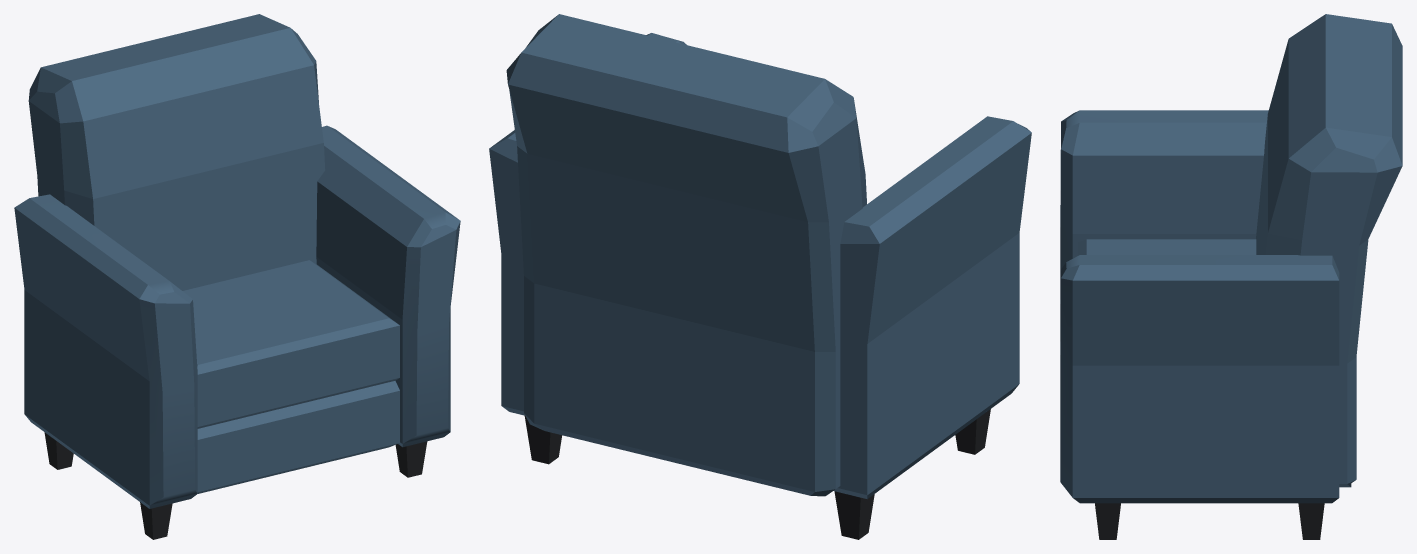
The model's file is Prop_Couch_01.glb.
3 views of the same model, side by side, from view 1: azimuth 30°, elevation 25°; view 2: azimuth 150°, elevation 25°; view 3: azimuth 270°, elevation 25° (orthographic). The views are drawn at different scales.
Visible parts, largest first — view 1: SM_Prop_Couch_01; view 2: SM_Prop_Couch_01; view 3: SM_Prop_Couch_01.
Part boxes in pixels (x1=…): SM_Prop_Couch_01: x1=14, y1=14, x2=460, y2=539; SM_Prop_Couch_01: x1=489, y1=14, x2=1031, y2=539; SM_Prop_Couch_01: x1=1060, y1=14, x2=1402, y2=539.
Size of the model in its own units: 1.01 by 1.13 by 0.8763.
Materials: 1 (1 with a texture image).
